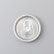paper: (12, 15, 42, 42)
